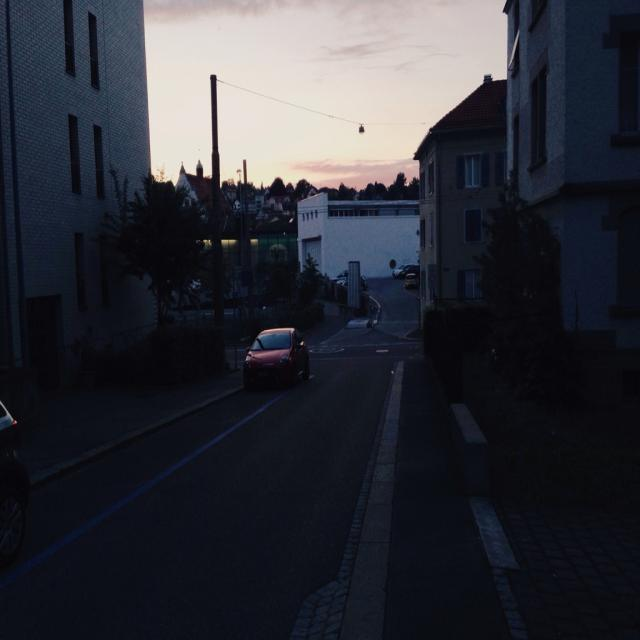car: (240, 320, 310, 379)
